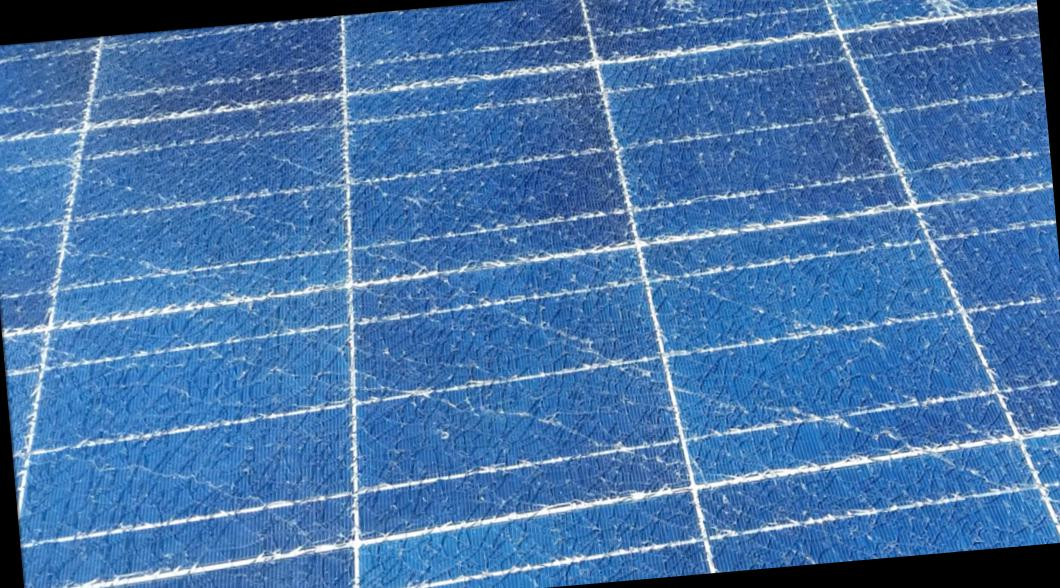Crack: (892, 0, 991, 45), (648, 0, 723, 26)
